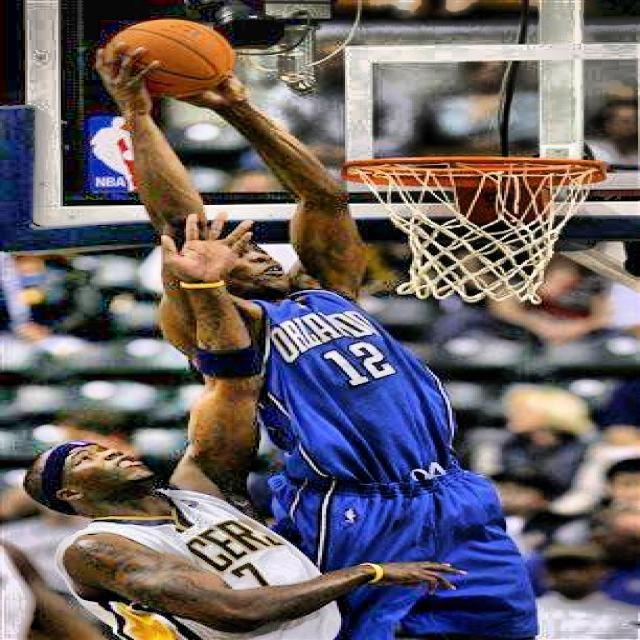board: (98, 20, 236, 100)
rim: (340, 158, 601, 304)
